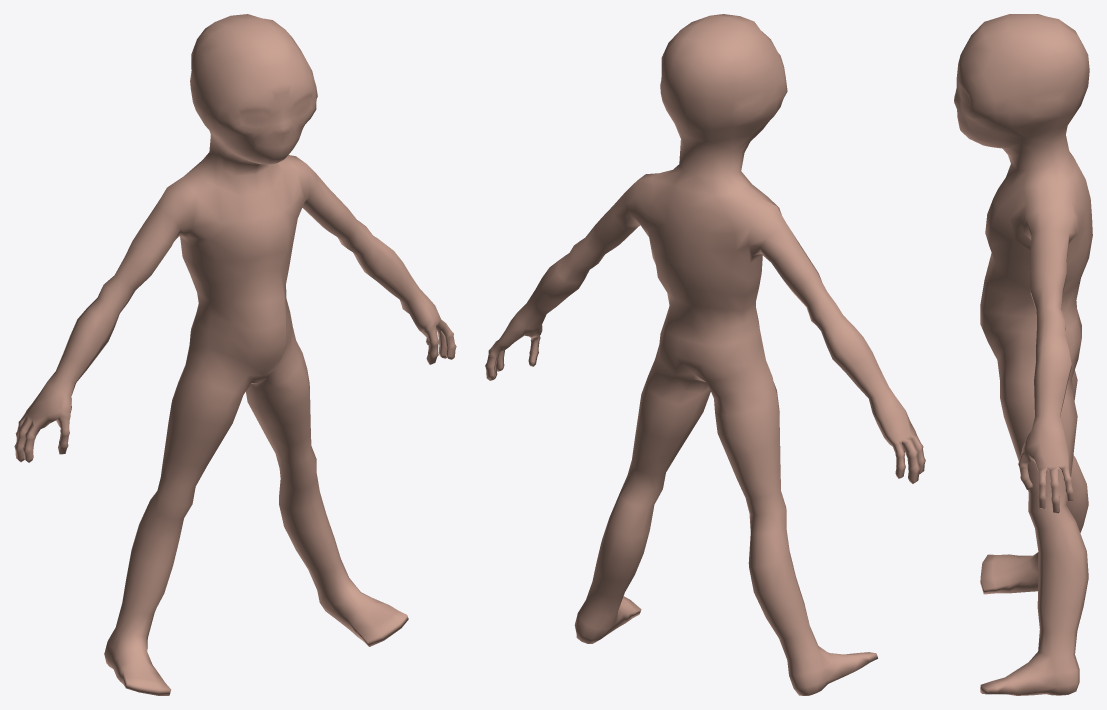
The model's file is ayyy.fbx.
3 renders of one model, left to right at view 1: azimuth 30°, elevation 25°; view 2: azimuth 150°, elevation 25°; view 3: azimuth 270°, elevation 25°, orthographic.
Parts seen in each view (by area): view 1: CharacterFullAlienConspiracyStyle1:Alien01; view 2: CharacterFullAlienConspiracyStyle1:Alien01; view 3: CharacterFullAlienConspiracyStyle1:Alien01.
Boxes of the visible parts, box(x1,y1,x2,y2) form: CharacterFullAlienConspiracyStyle1:Alien01: box(14, 14, 456, 695); CharacterFullAlienConspiracyStyle1:Alien01: box(485, 14, 925, 695); CharacterFullAlienConspiracyStyle1:Alien01: box(954, 14, 1092, 695).
Size of the model in its own units: 116 by 162 by 32.71.
